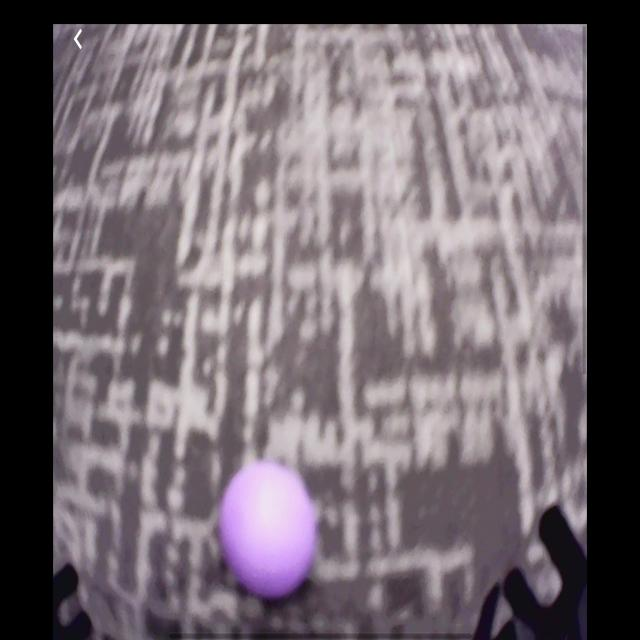ball: (220, 462, 317, 602)
